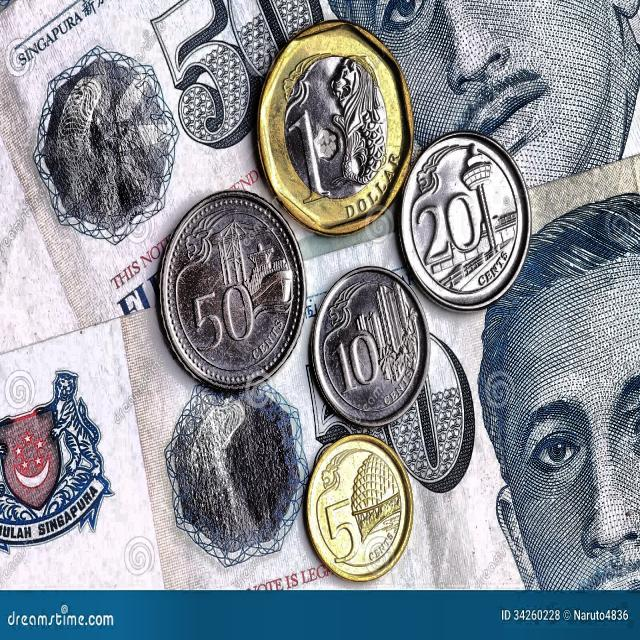coin: (257, 20, 413, 235)
